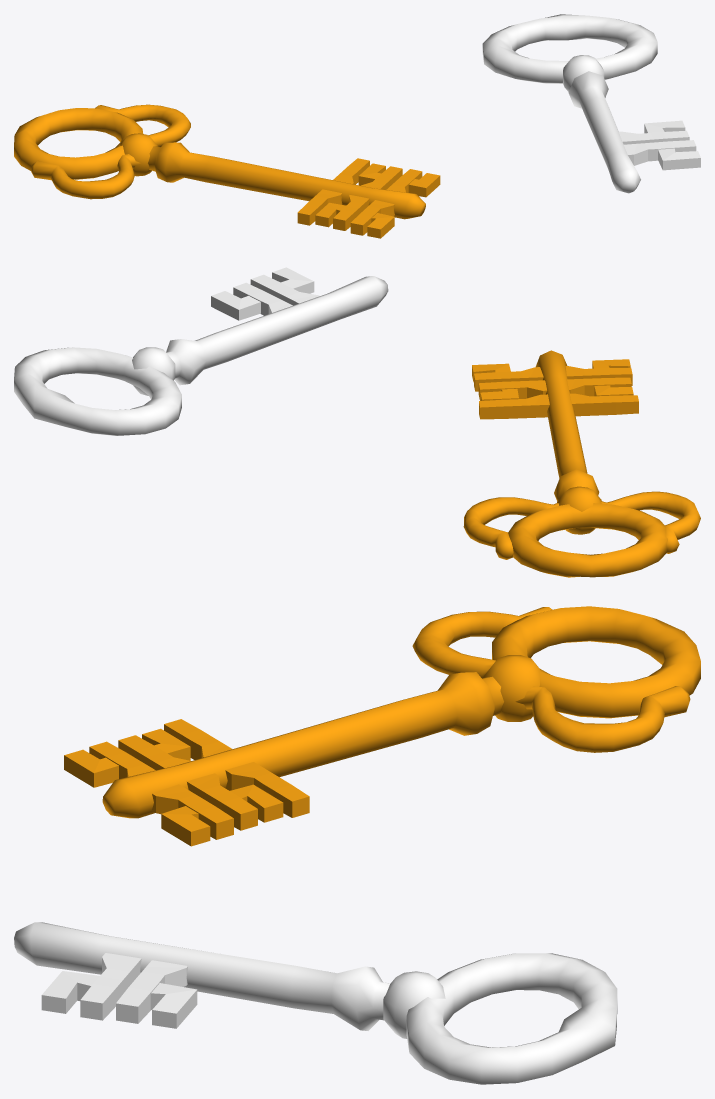
File: extra_key_bundle.glb
3 views of the same model, one above another, from view 1: azimuth 30°, elevation 25°; view 2: azimuth 150°, elevation 25°; view 3: azimuth 270°, elevation 25° (orthographic). The views are drawn at different scales.
Visible parts, largest first — view 1: Key_Gold, Key_Metal; view 2: Key_Gold, Key_Metal; view 3: Key_Gold, Key_Metal.
Part boxes in pixels (box(x1,y1,x2,y2)): Key_Gold: box(14, 104, 440, 238); Key_Metal: box(482, 14, 700, 193); Key_Gold: box(463, 350, 700, 577); Key_Metal: box(14, 267, 388, 435); Key_Gold: box(64, 606, 700, 846); Key_Metal: box(14, 922, 617, 1084).
Size of the model in its own units: 0.4183 by 0.0273 by 0.2628.
